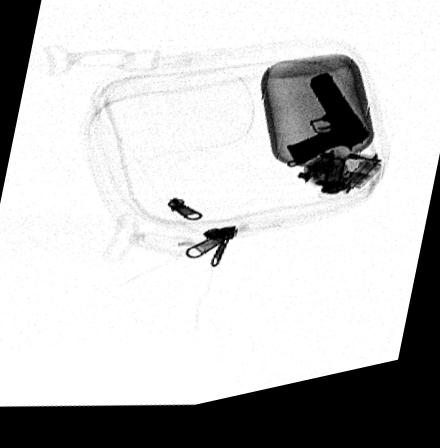Gun: (284, 87, 370, 180)
